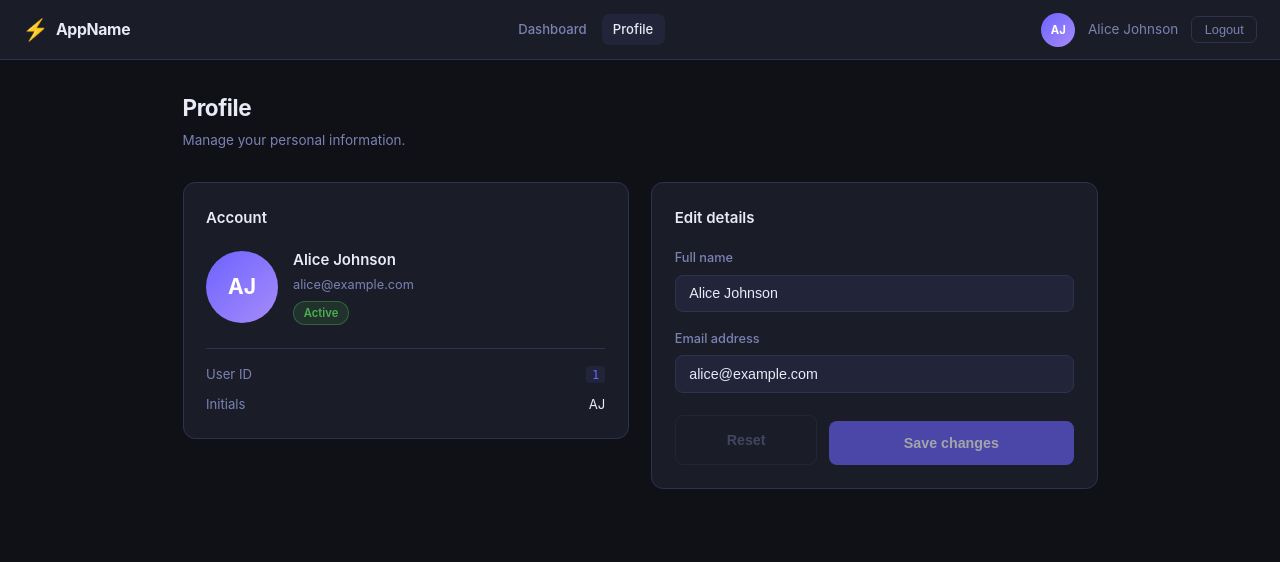
Test: ProfilePage — submission › shows the success message after a successful save
Replace the text in the field labelled "Full name" with "Alice Smith". click: (874, 293)
box: [675,275,1074,312]
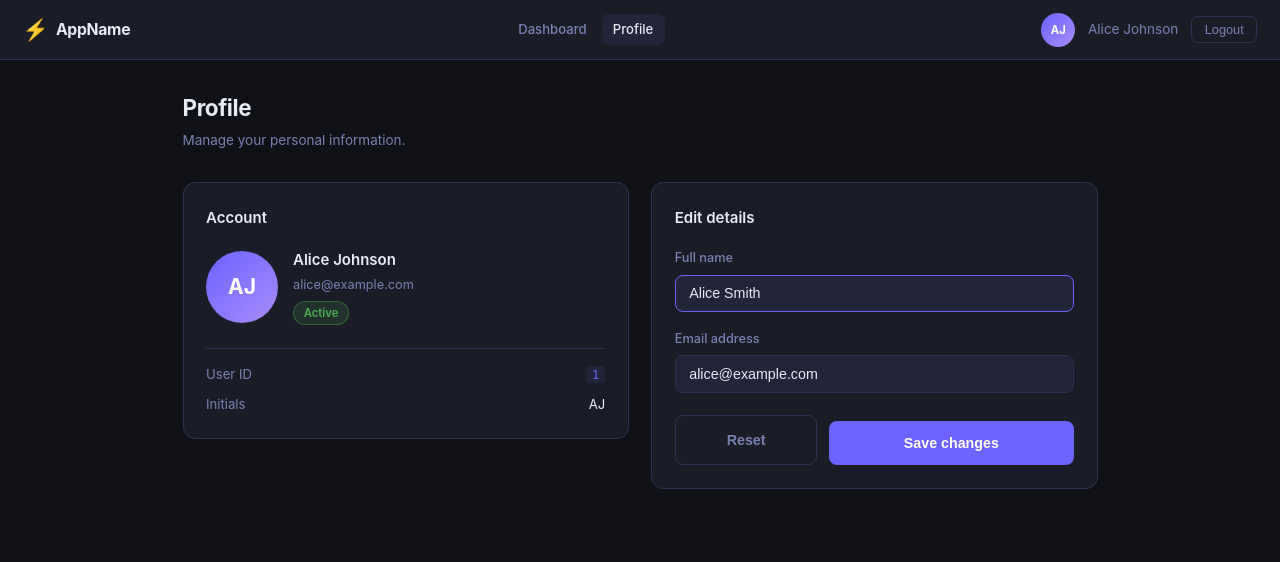
Click the button "Save changes". click: click(951, 443)
box: [829,421,1074,465]
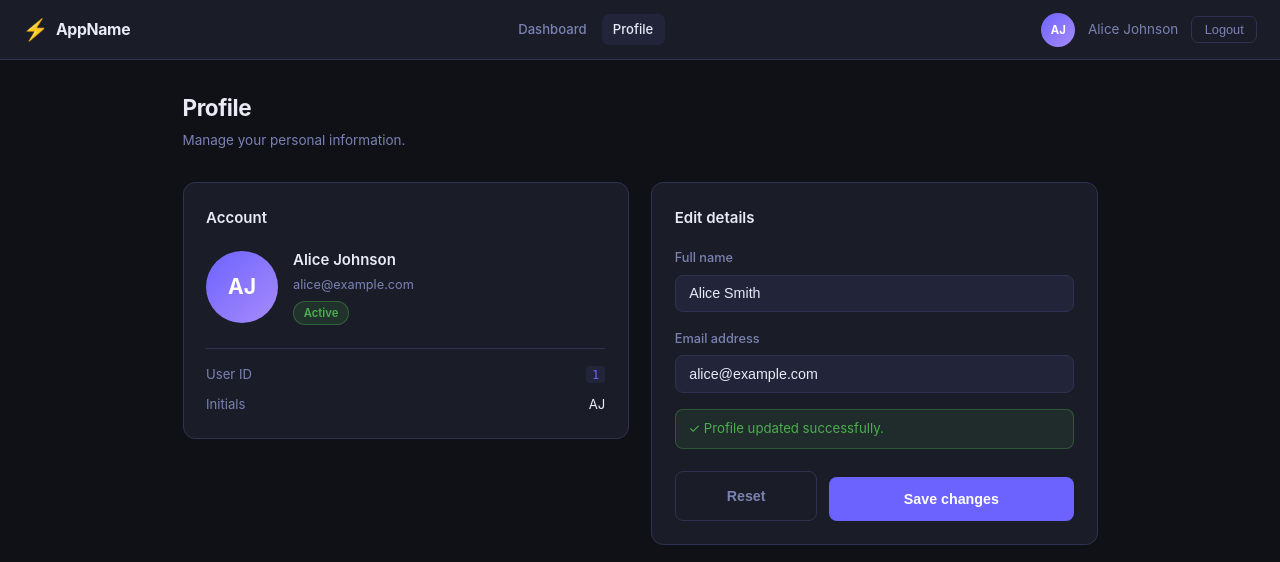
Expected: the message shows "updated successfully", [688,420,884,436]
